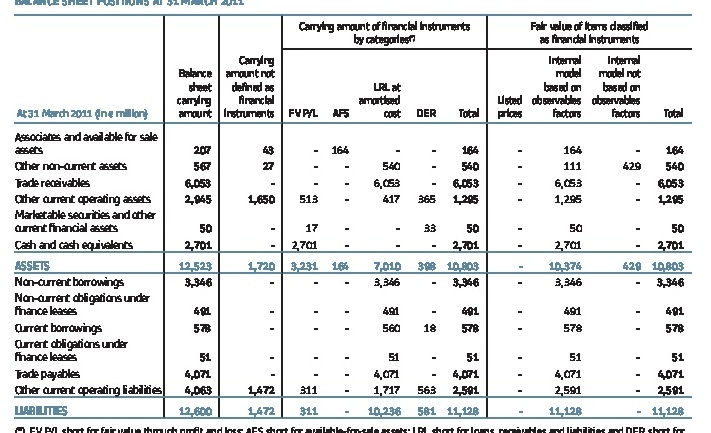table: (0, 0, 711, 433)
